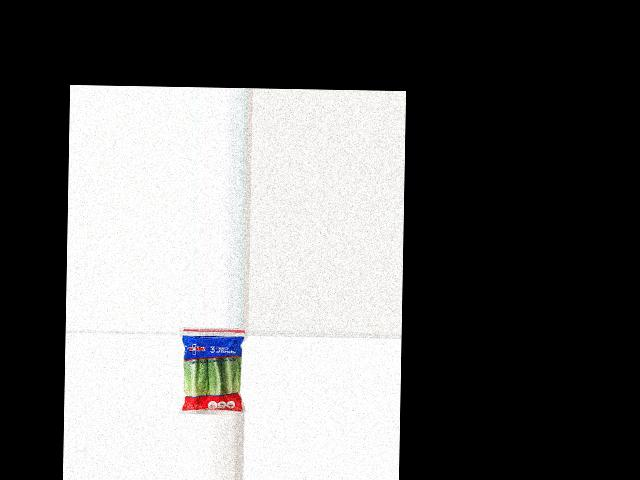lettuce: (177, 331, 244, 414)
